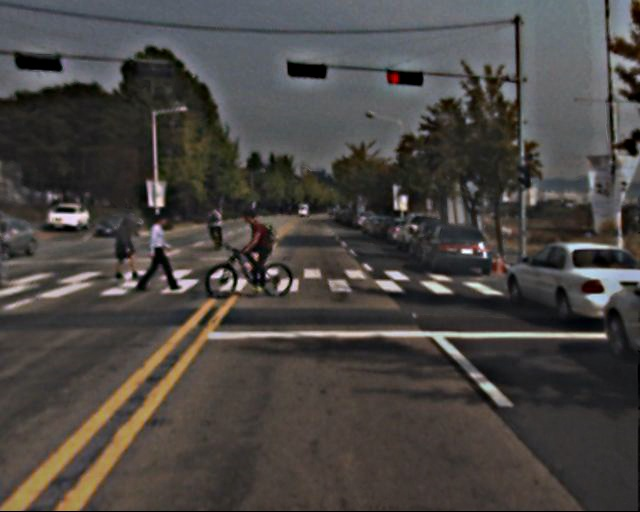person: (238, 205, 281, 289), (147, 207, 180, 292), (115, 212, 144, 282), (207, 204, 227, 249)
